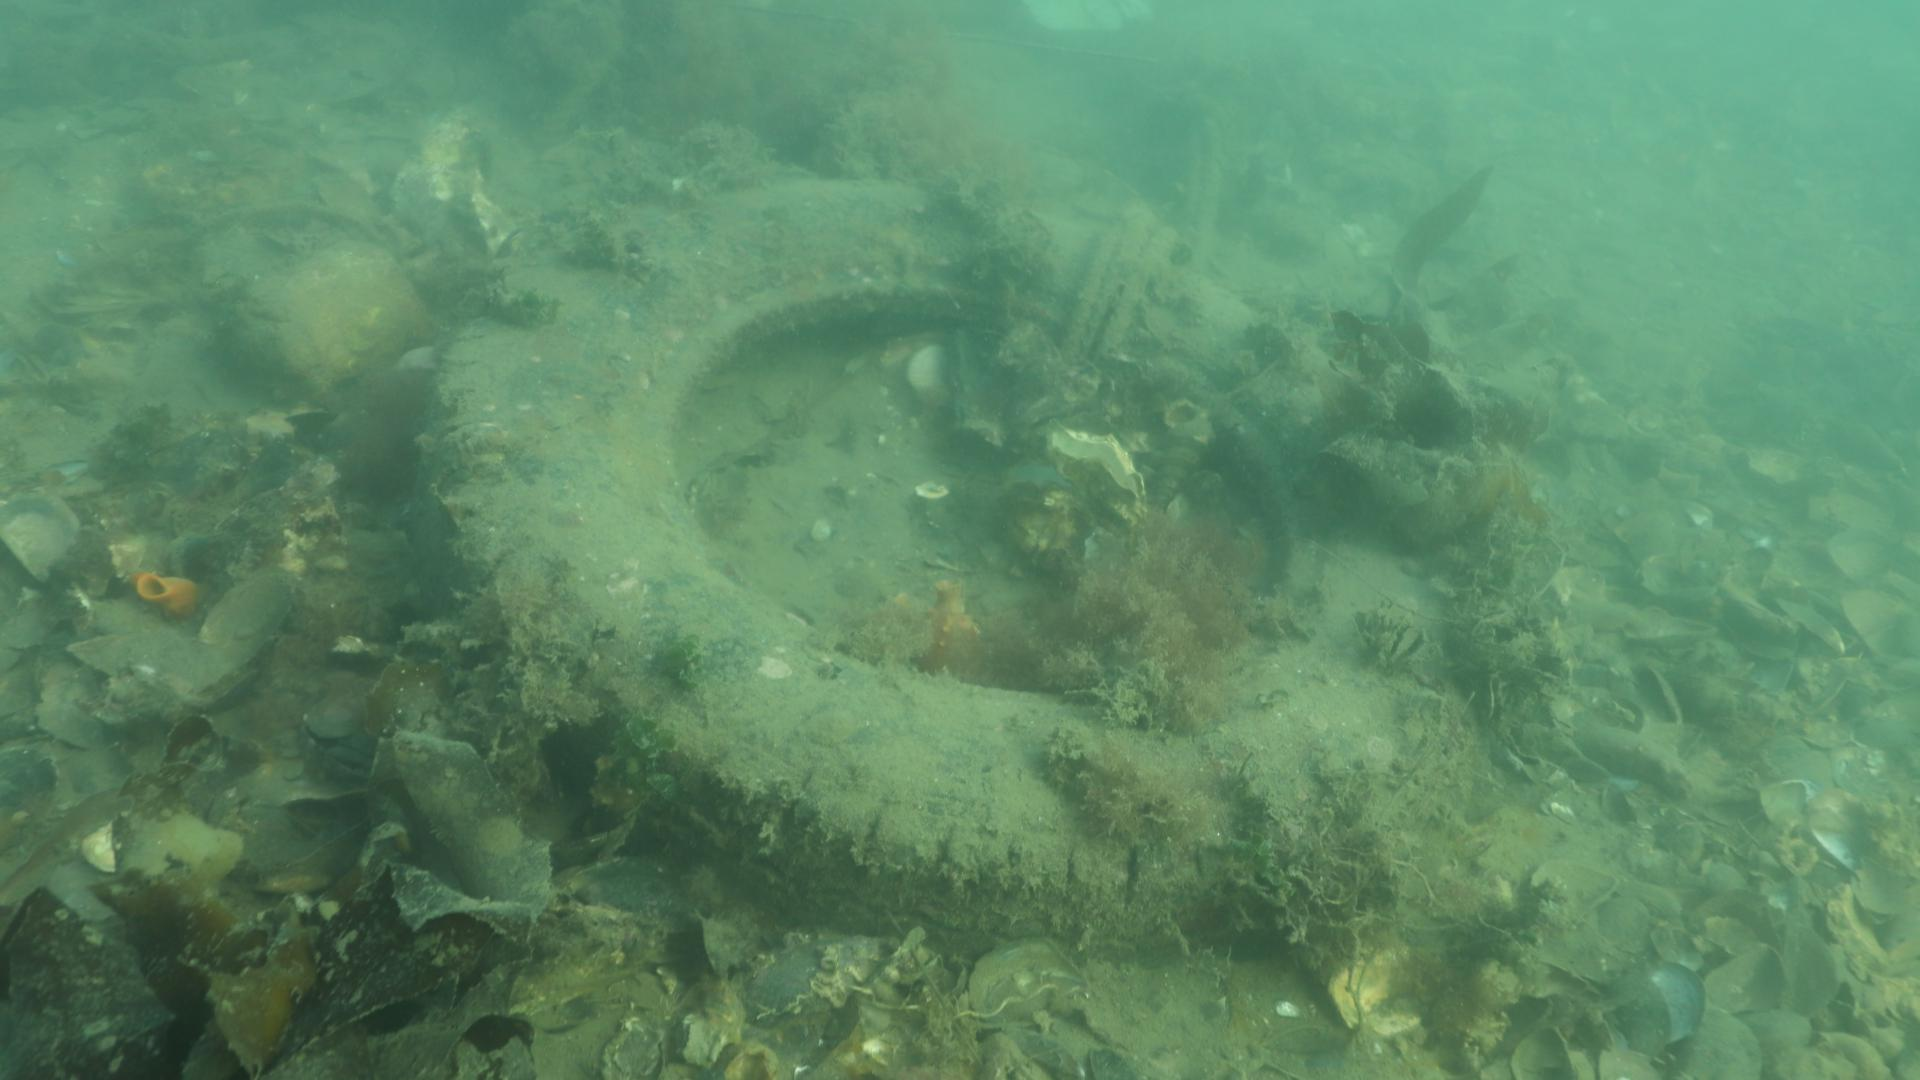tire: (415, 178, 1499, 975)
